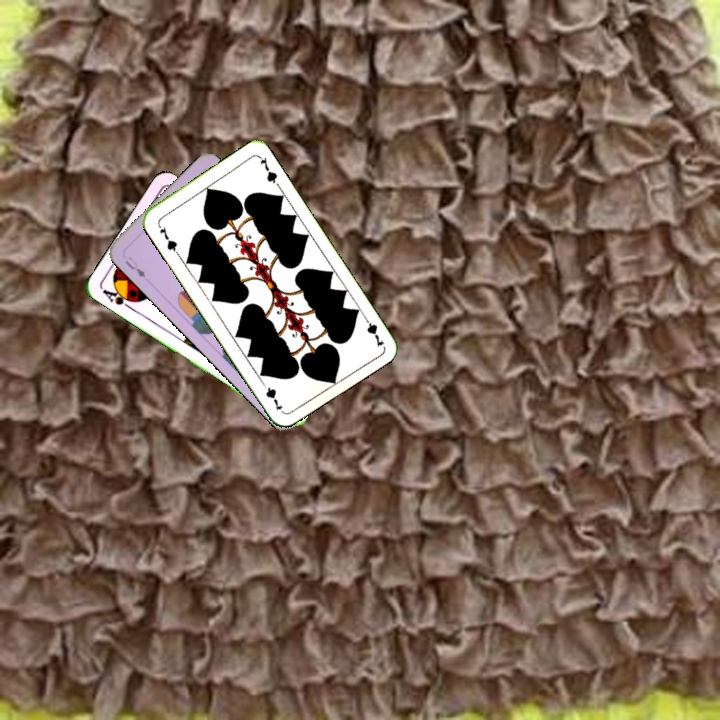EU: (121, 252, 148, 280)
G7: (359, 311, 387, 350), (153, 220, 181, 256)
SA: (98, 283, 138, 312)
